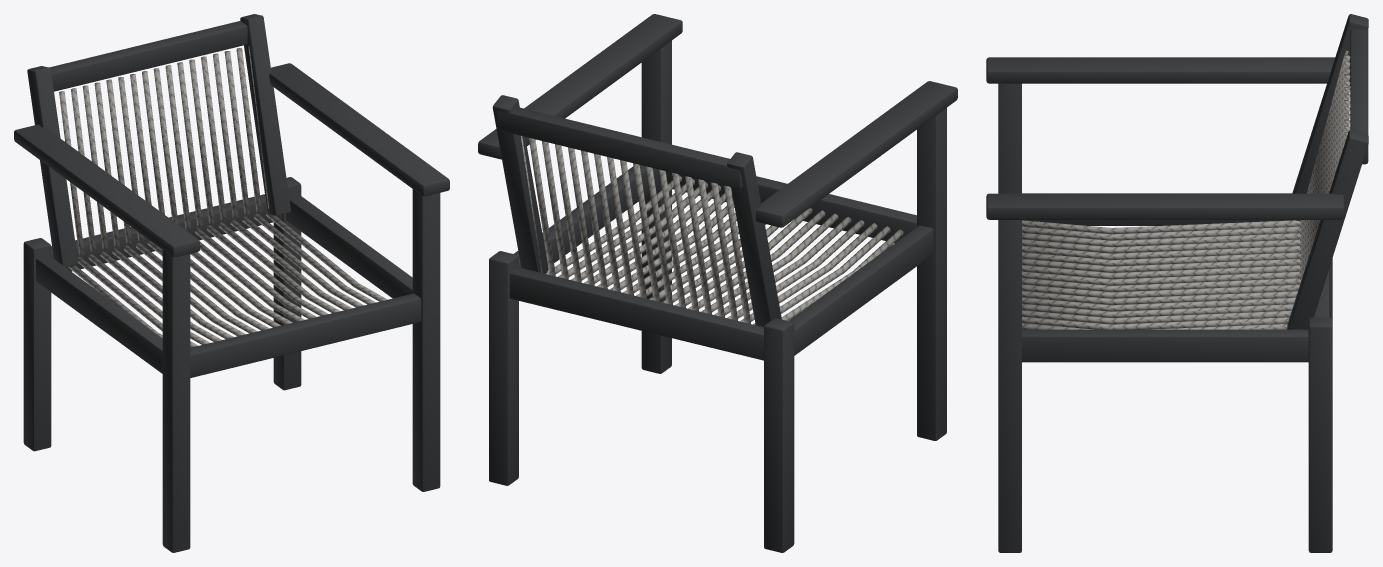
The model's file is silla_cuerda_aluminio.glb.
3 renders of one model, left to right at view 1: azimuth 30°, elevation 25°; view 2: azimuth 150°, elevation 25°; view 3: azimuth 270°, elevation 25°, orthographic. The views are drawn at different scales.
Visible parts, largest first — view 1: silla_cuerda_aluminio; view 2: silla_cuerda_aluminio; view 3: silla_cuerda_aluminio.
Part boxes in pixels (x1,y1,x2,y2): silla_cuerda_aluminio: (14, 14, 449, 552); silla_cuerda_aluminio: (478, 14, 957, 552); silla_cuerda_aluminio: (986, 14, 1368, 552).
Bounding box in the file's own units: 0.6001 × 0.749 × 0.6405.
Materials: 2 (1 with a texture image).
